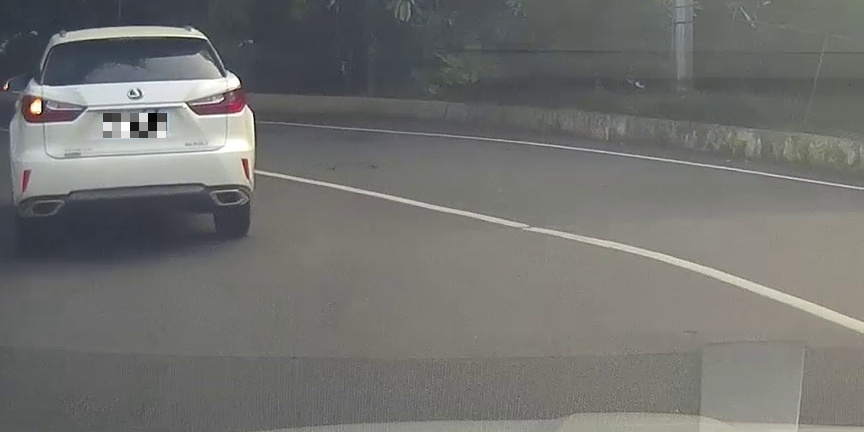L_light: (22, 93, 89, 125)
R_light: (185, 85, 246, 116)
T_light: (109, 36, 147, 42)
day-left: (14, 25, 254, 249)
plate_1: (103, 113, 167, 138)
